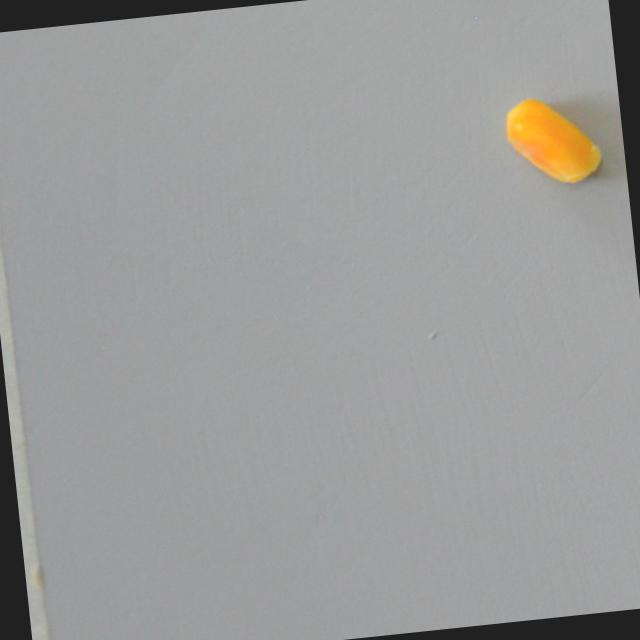dañado: (494, 87, 609, 199)
